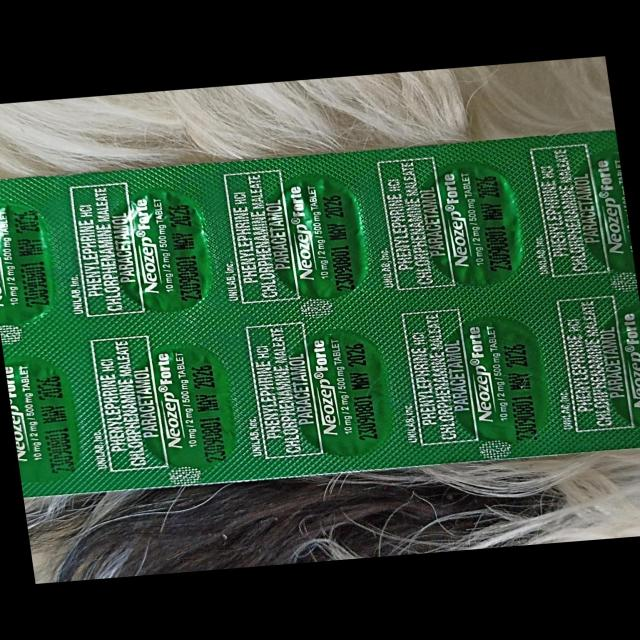Neozep_Strip: (0, 114, 640, 501)
